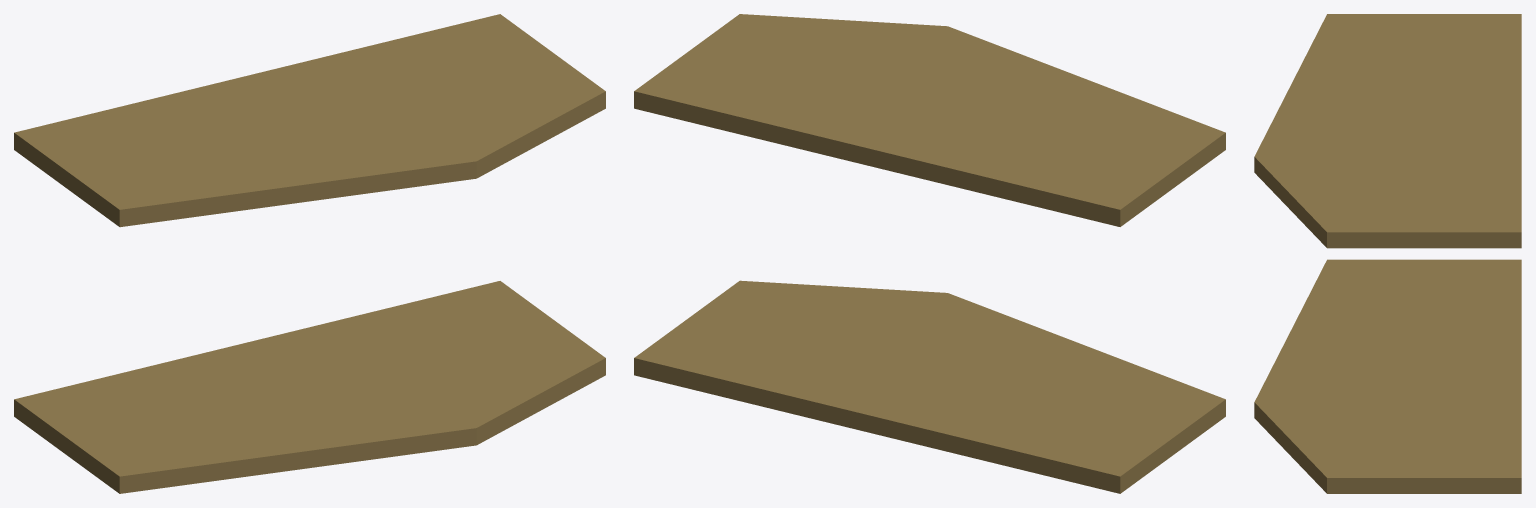
File: Office_Shelfs.fbx
3 renders of one model, left to right at view 1: azimuth 30°, elevation 25°; view 2: azimuth 150°, elevation 25°; view 3: azimuth 270°, elevation 25°, orthographic. The views are drawn at different scales.
Visible parts, largest first — view 1: Office_Shelfs; view 2: Office_Shelfs; view 3: Office_Shelfs.
Boxes of the visible parts, x1,y1,x2,y2 form: Office_Shelfs: (14, 14, 605, 493); Office_Shelfs: (634, 14, 1225, 493); Office_Shelfs: (1254, 14, 1521, 493).
Size of the model in its own units: 138 by 71.38 by 77.12.
